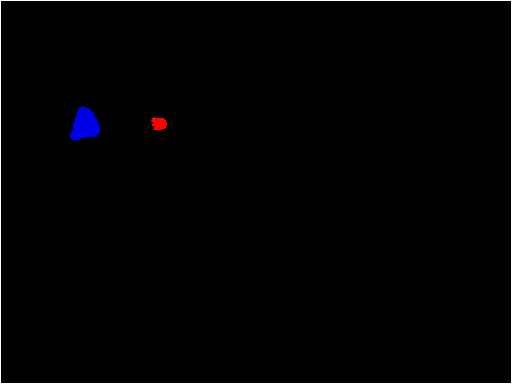chipped: (71, 112, 92, 137)
detached: (154, 116, 167, 130)
